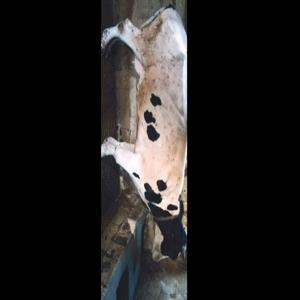lumpy skin diesease: (99, 3, 187, 299)
